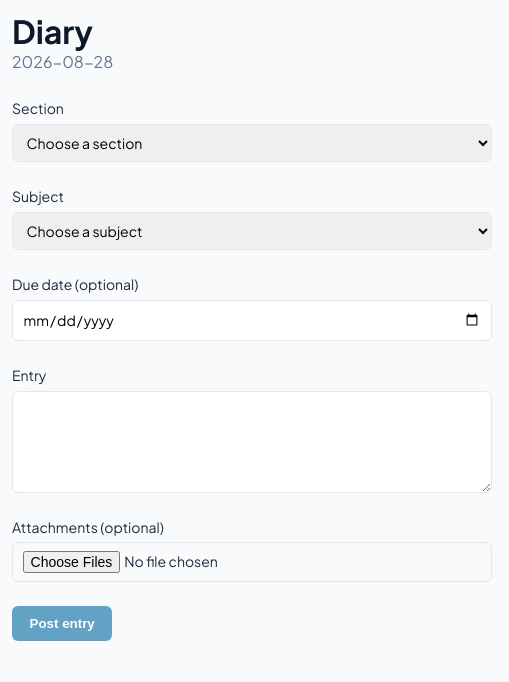
Scenario: DiaryView › shows an error message if posting fails
The width and height of the screenshot is (509, 682).
Select "Grade 3 3A — Gulistan-e-Jauhar" in the dropdown with test id "section-select" at (252, 143), box [12,124,492,162]
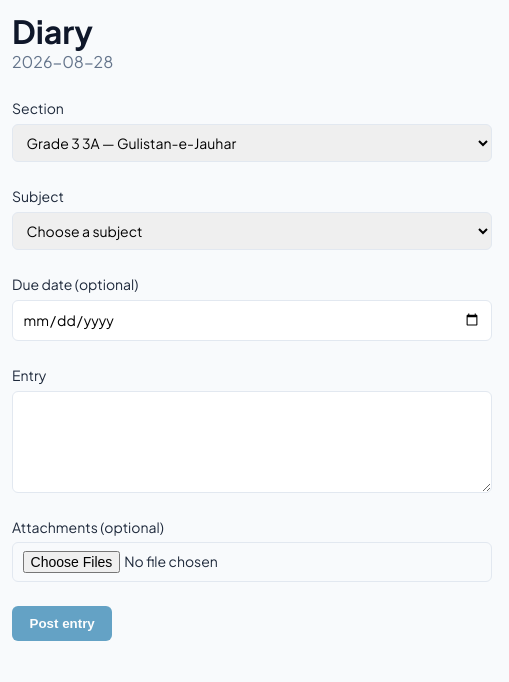
Select "Urdu" in the dropdown with test id "subject-select" at (252, 231), box [12,212,492,250]
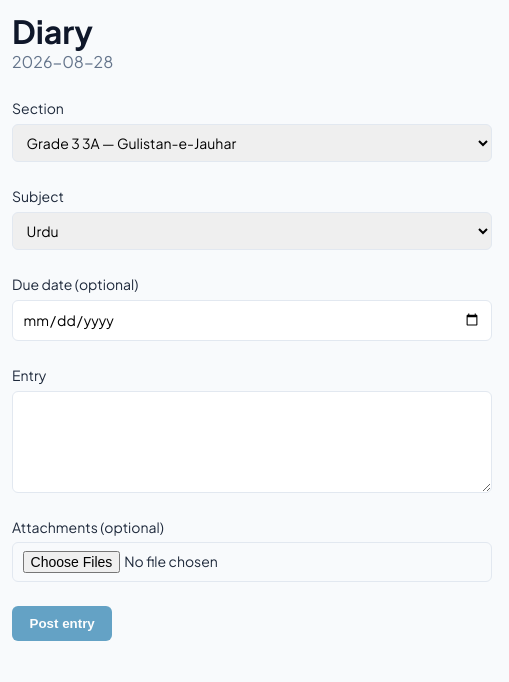
Type "Read chapter 3." into the text box with test id "entry-text" at (252, 442), box [12,391,492,493]
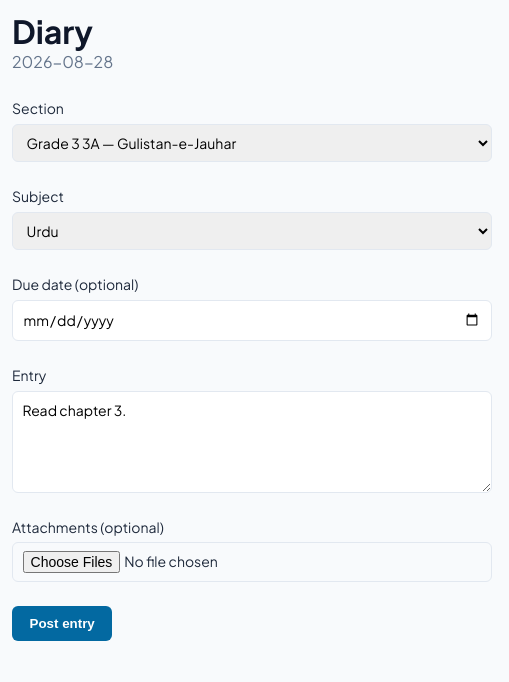
Click the button with test id "post-entry" at (62, 624), box [12,606,112,641]
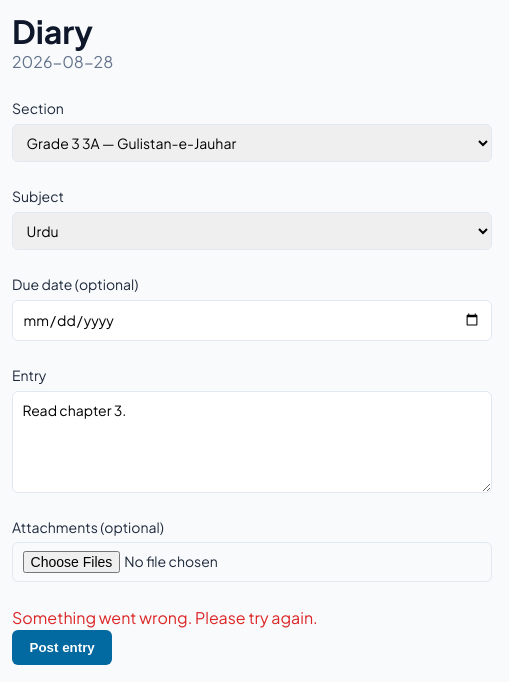
Expected: the text "Something went wrong" is shown, [12,607,318,628]
